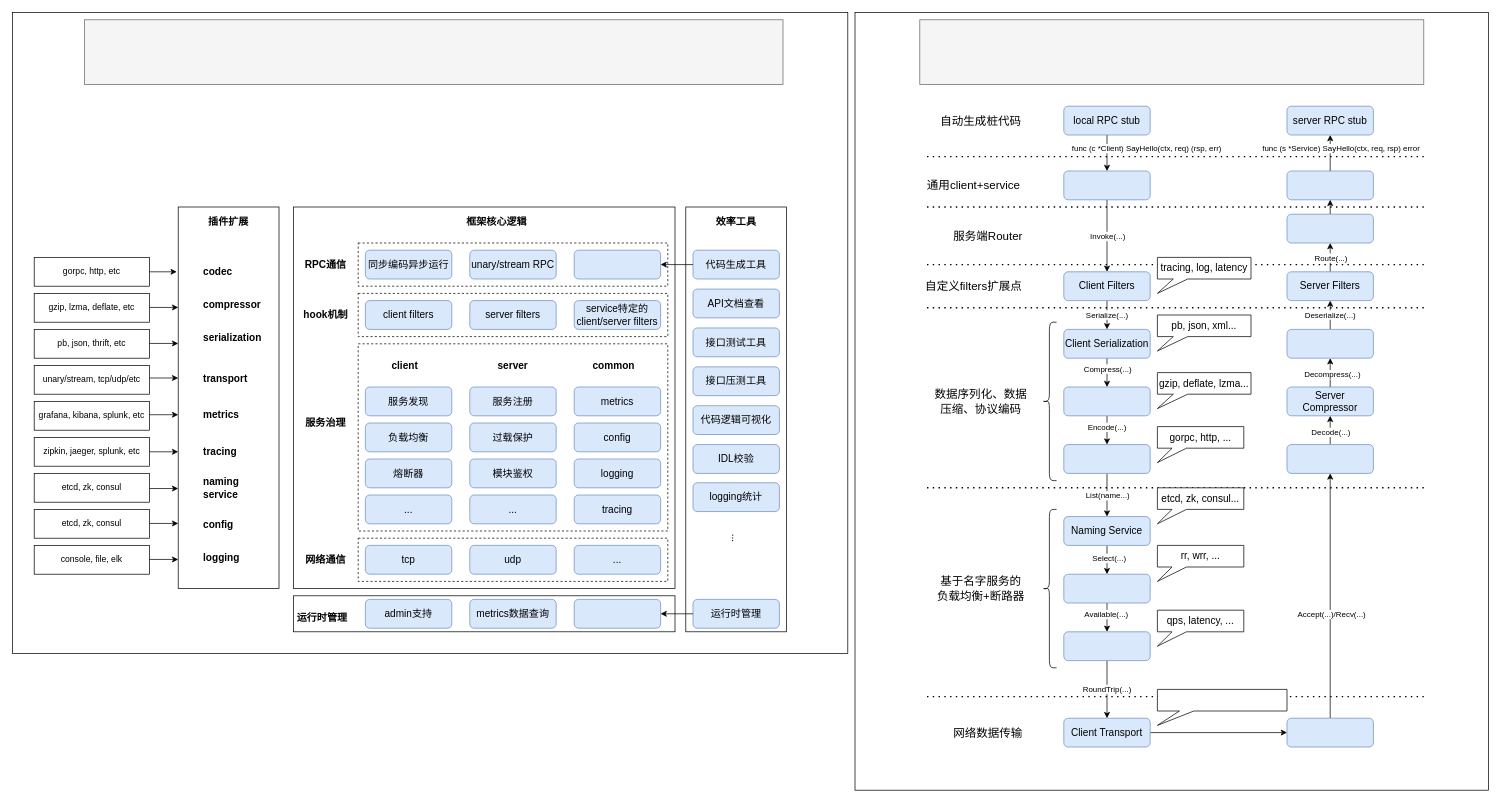
Image size: 1501x803. Some labels were removed from this diagram. Here are the shapes that lost their labels. From the top down, the box of each, then its label:
(84, 19, 783, 85): 整体功能架构 介绍了RPC框架的大致功能架构
(919, 19, 1424, 85): 通信流程设计 这里总结了client、server端通信的大致流程
(1063, 170, 1150, 200): RPC Client
(1286, 170, 1373, 200): RPC Service
(1286, 213, 1373, 243): Server Router
(573, 249, 661, 279): RPC桩代码
(1286, 329, 1373, 358): Server Serialization
(1063, 386, 1150, 416): Client Compressor
(1063, 444, 1150, 473): Client Codec
(1286, 444, 1373, 473): Server Codec
(1063, 573, 1150, 603): Load Balancer
(573, 599, 661, 628): api
(1063, 631, 1150, 661): Circuit Breaker
(1157, 689, 1287, 725): unary+stream mode, based on tcp, udp, http, quic...
(1286, 717, 1373, 747): Server Transport
